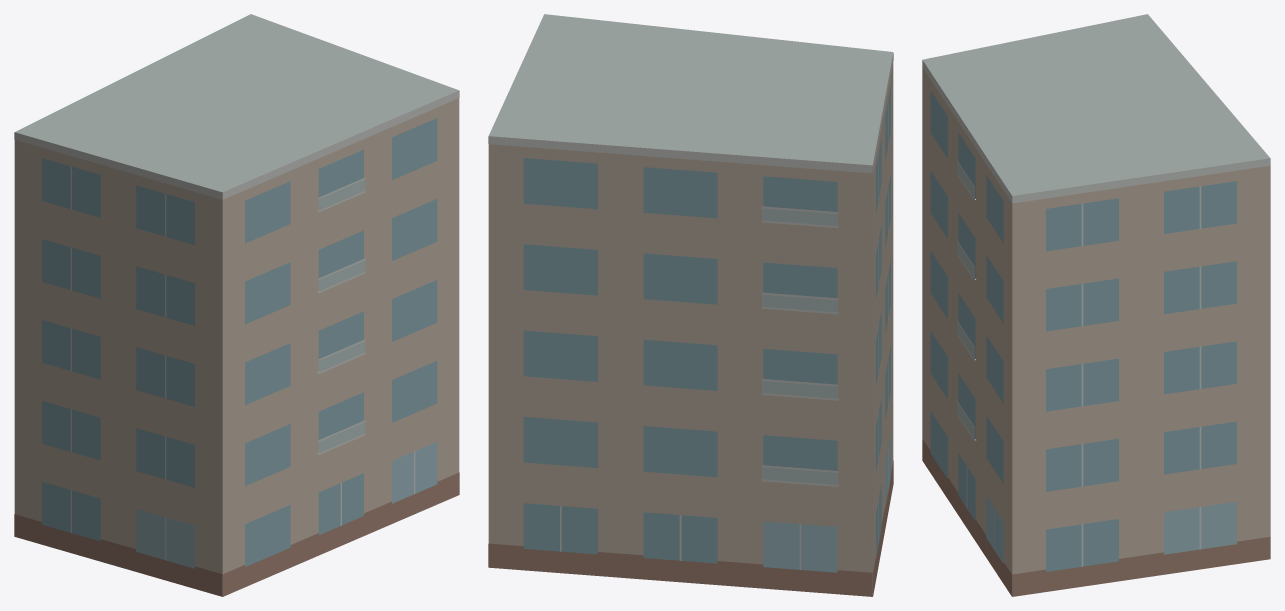
The model's file is survey-upis-32698184.glb.
3 renders of one model, left to right at view 1: azimuth 30°, elevation 25°; view 2: azimuth 150°, elevation 25°; view 3: azimuth 270°, elevation 25°, orthographic. The views are drawn at different scales.
Parts seen in each view (by area): view 1: survey-upis-32698184.tmp; view 2: survey-upis-32698184.tmp; view 3: survey-upis-32698184.tmp.
Part boxes in pixels (x1,y1,x2,y2): survey-upis-32698184.tmp: [14, 14, 459, 596]; survey-upis-32698184.tmp: [488, 14, 893, 596]; survey-upis-32698184.tmp: [922, 14, 1270, 596].
Size of the model in its own units: 12.82 by 13.15 by 10.36.
